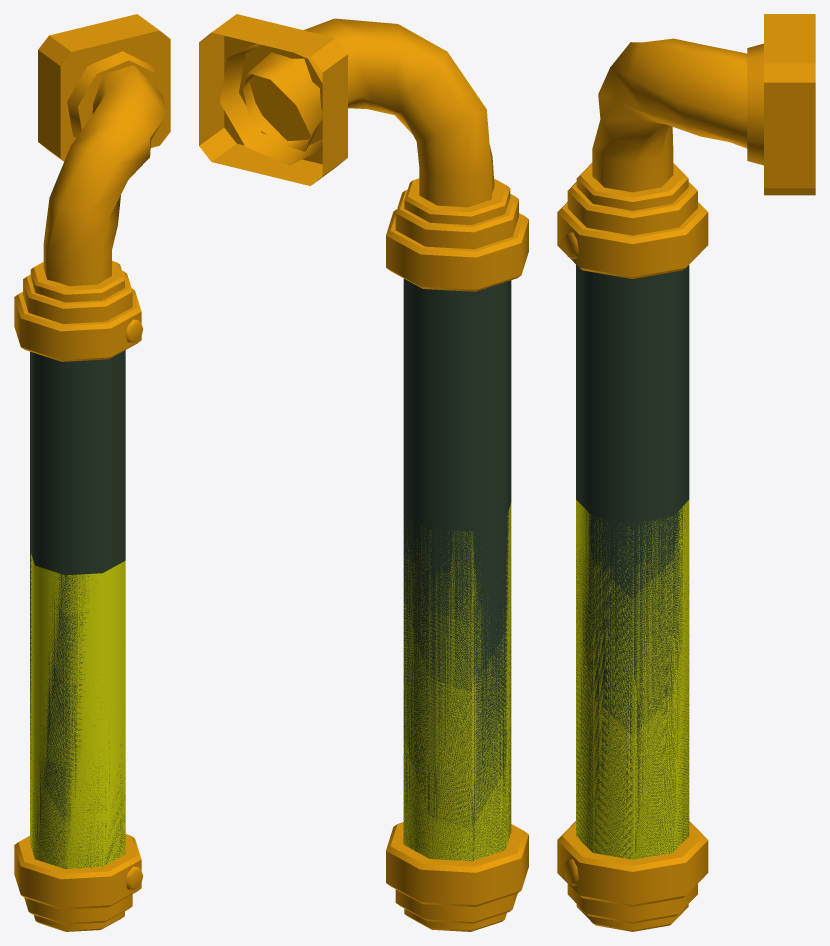
The model's file is GDT_Tube.fbx.
3 renders of one model, left to right at view 1: azimuth 30°, elevation 25°; view 2: azimuth 150°, elevation 25°; view 3: azimuth 270°, elevation 25°, orthographic. The views are drawn at different scales.
Visible parts, largest first — view 1: Tube, TubeTransparent, TubeLiquid; view 2: Tube, TubeTransparent, TubeLiquid; view 3: TubeTransparent, Tube, TubeLiquid.
Part boxes in pixels (x1,y1,x2,y2): Tube: (14, 14, 170, 931); TubeTransparent: (30, 350, 125, 868); TubeLiquid: (30, 553, 125, 868); Tube: (199, 14, 528, 931); TubeTransparent: (403, 279, 511, 861); TubeLiquid: (403, 503, 511, 861); TubeTransparent: (576, 265, 689, 858); Tube: (557, 14, 815, 931); TubeLiquid: (576, 500, 689, 859).
Size of the model in its own units: 13.55 by 50.39 by 12.77.
